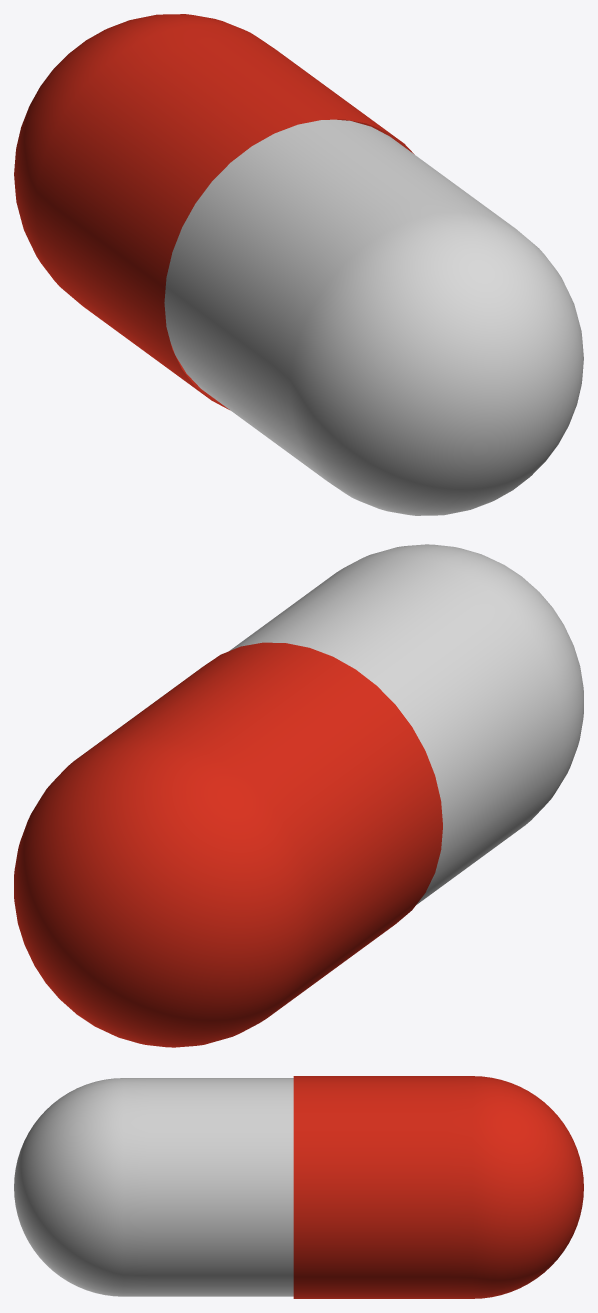
Rendered from LBSR_Capsule.fbx.
The picture shows the model from 3 angles, top to bottom: view 1: azimuth 30°, elevation 25°; view 2: azimuth 150°, elevation 25°; view 3: azimuth 270°, elevation 25°; orthographic projection. The views are drawn at different scales.
Parts seen in each view (by area): view 1: Capsule002, Capsule001; view 2: Capsule001, Capsule002; view 3: Capsule001, Capsule002.
Boxes of the visible parts, left/top/right/bottom form: Capsule002: left=164, top=119, right=583, bottom=515; Capsule001: left=14, top=14, right=414, bottom=409; Capsule001: left=14, top=642, right=442, bottom=1047; Capsule002: left=229, top=544, right=583, bottom=904; Capsule001: left=293, top=1076, right=583, bottom=1298; Capsule002: left=14, top=1078, right=293, bottom=1296.
Bounding box in the file's own units: 0.0495 × 0.0495 × 0.1267.
